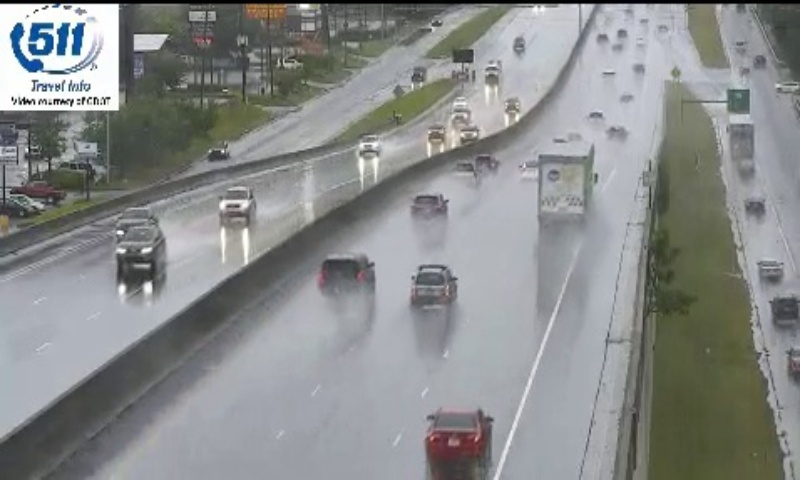car: (426, 407, 492, 460), (319, 257, 373, 297), (411, 270, 456, 306), (411, 194, 448, 219)
small-truck: (538, 142, 594, 222)
